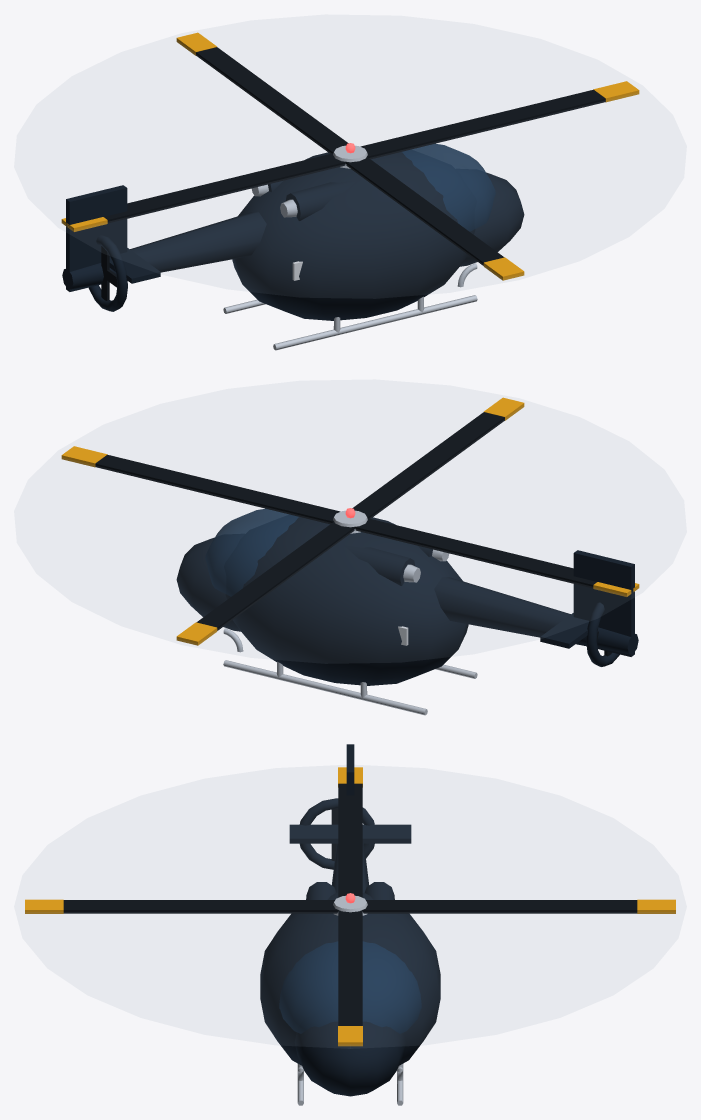
The model's file is police_helicopter.glb.
3 renders of one model, top to bottom at view 1: azimuth 30°, elevation 25°; view 2: azimuth 150°, elevation 25°; view 3: azimuth 270°, elevation 25°, orthographic.
Visible parts, largest first — view 1: Node (×12); view 2: Node (×12); view 3: Node (×9).
Boxes of the visible parts, x1=… form: Node (×12): x1=62, y1=32, x2=639, y2=350; Node (×12): x1=61, y1=397, x2=638, y2=715; Node (×9): x1=25, y1=744, x2=675, y2=1096.
Size of the model in its own units: 12.2 by 3.57 by 12.2.
